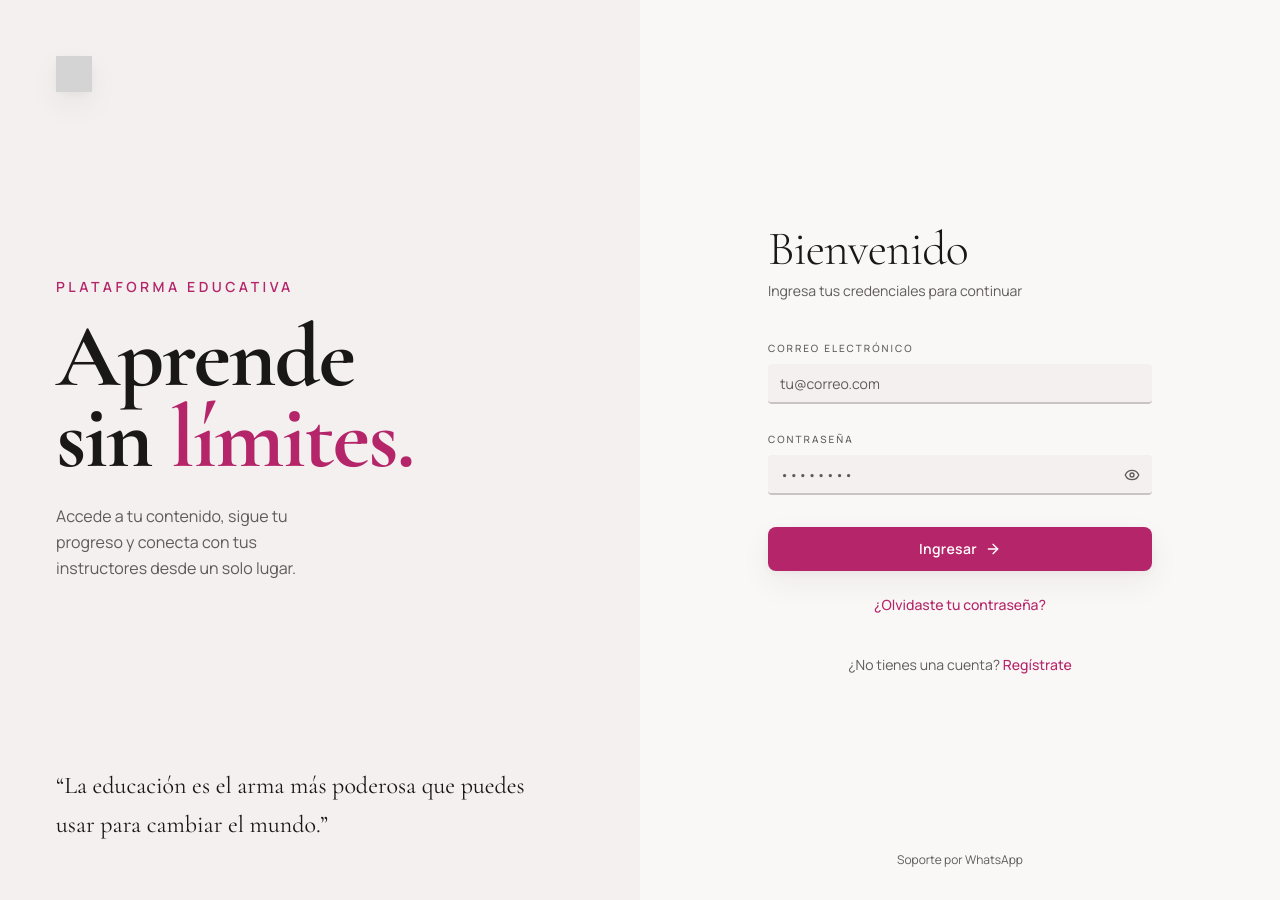
Página de login › muestra los errores de campos obligatorios al enviar vacío
Click the button "Ingresar" at (960, 549), box [768, 527, 1152, 571]
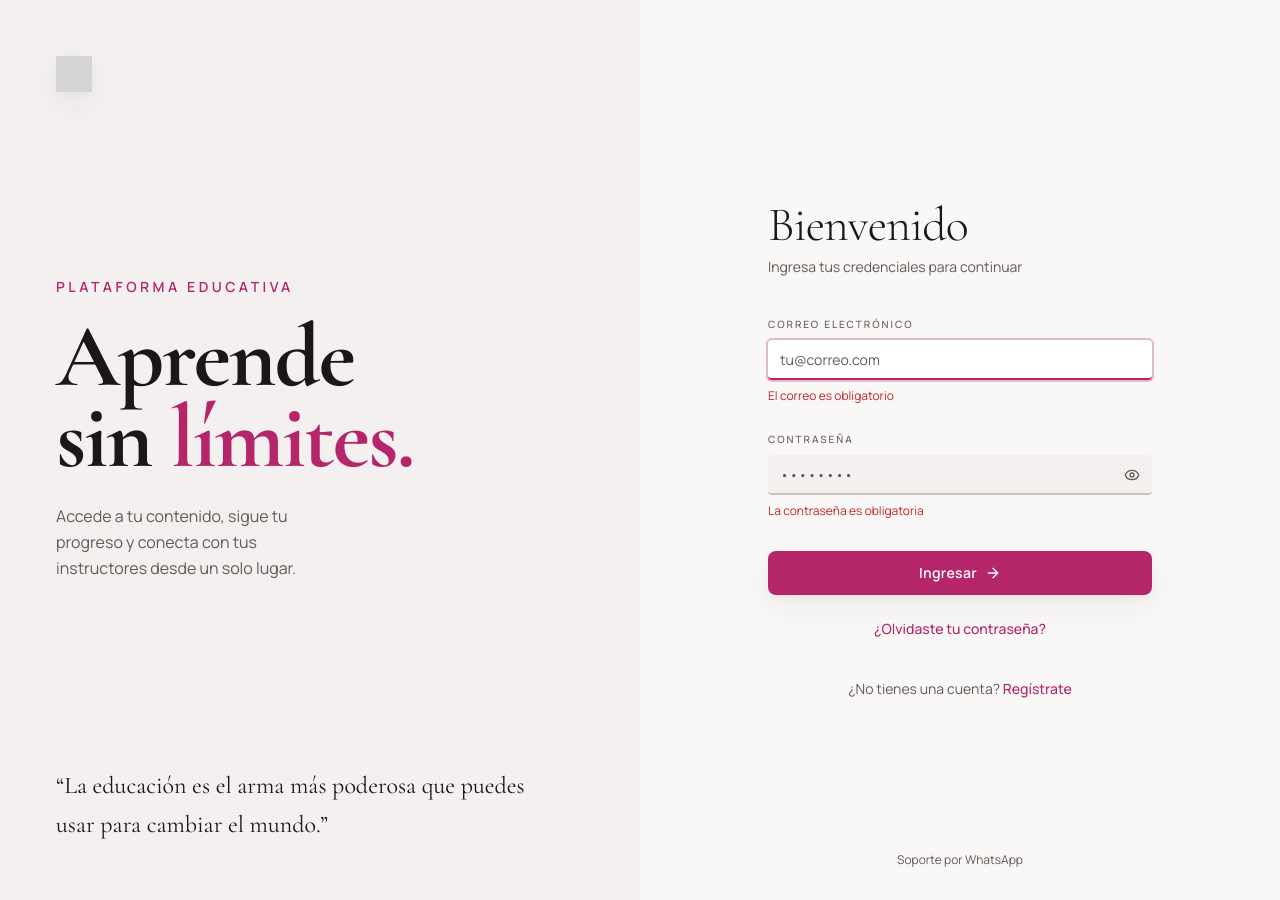
Expected: the text "El correo es obligatorio" is shown, [768, 387, 894, 404]
Expected: the text "La contraseña es obligatoria" is shown, [768, 502, 924, 519]
